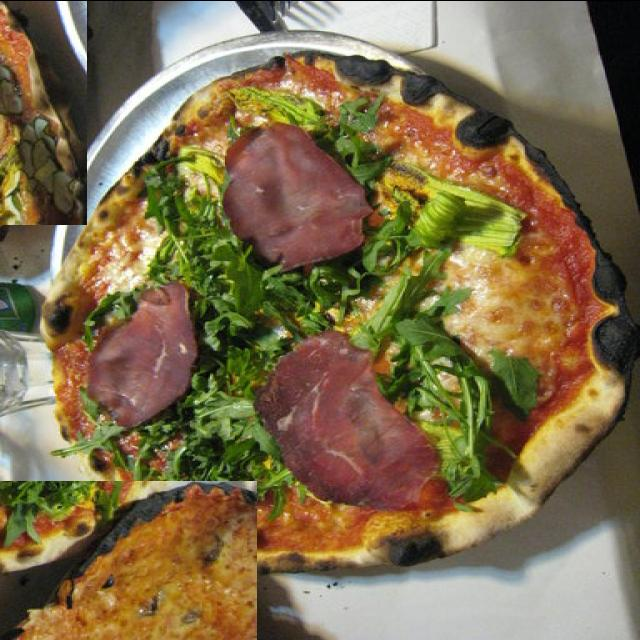pizza: (41, 50, 640, 573), (0, 480, 257, 640), (0, 0, 87, 224)
